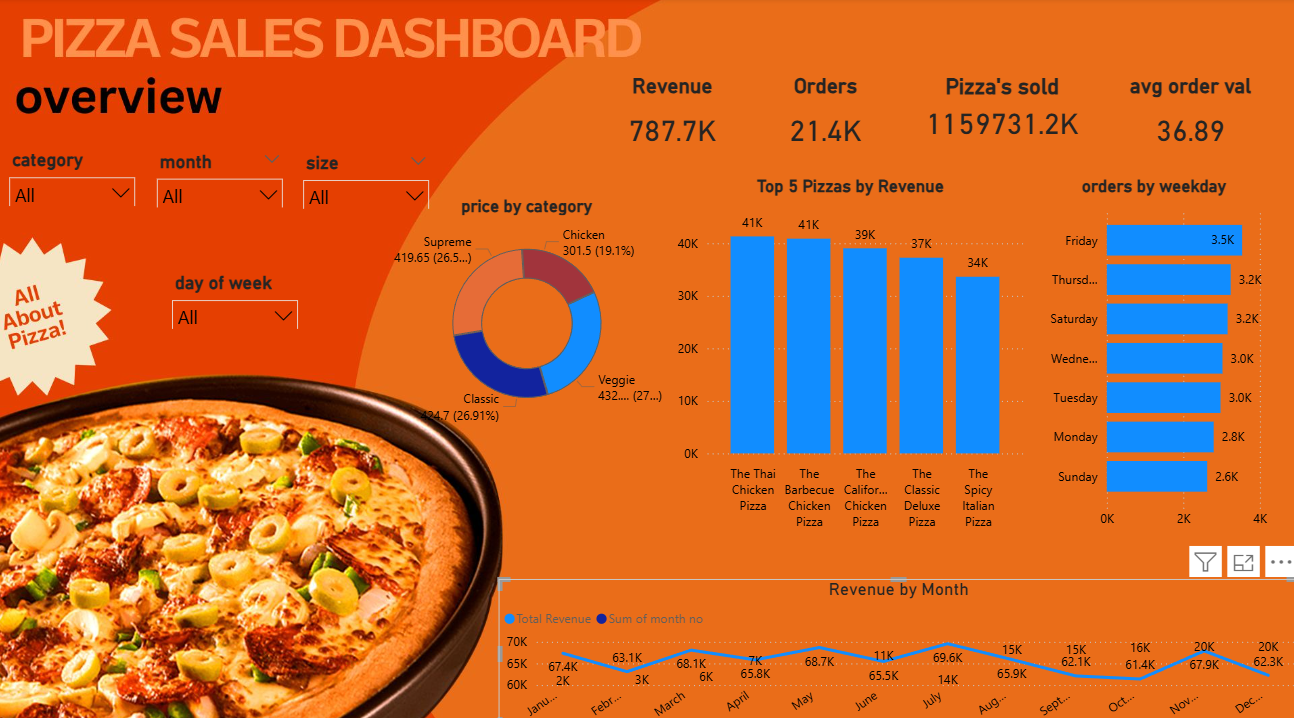

This screenshot's page, from the dashboard's own definition file:
{"tool":"powerbi","page":{"name":"Page 1","canvas":[1280,720],"ordinal":0},"visuals":[{"type":"card","title":"Revenue","fields":{"Values":["pizzas.Total Revenue"]},"box":[602.3,74.8,122.4,84.3],"z":0},{"type":"slicer","fields":{"Values":["pizza_types.category"]},"box":[0,144.1,144.1,61.2],"z":1000},{"type":"slicer","fields":{"Values":["pizzas.size"]},"box":[289.6,146.8,144.1,61.2],"z":2000},{"type":"slicer","fields":{"Values":["orders.month"]},"box":[145.5,145.5,144.1,61.2],"z":3000},{"type":"card","title":"Orders","fields":{"Values":["orders.orders"]},"box":[753.2,74.8,122.4,84.3],"z":4000},{"type":"card","title":"avg order val","fields":{"Values":["orders.avg_order_value"]},"box":[1106.7,74.8,134.6,84.3],"z":5000},{"type":"card","title":"Pizza''s sold","fields":{"Values":["Sum(order_details.order_details_id)"]},"box":[860.6,74.8,255.6,69.3],"z":6000},{"type":"lineChart","title":"Revenue by Month","fields":{"Y":["pizzas.Total Revenue"],"Category":["orders.month"],"Y2":["Sum(orders.month no)"]},"box":[492.2,572.4,788.5,148.2],"z":7000},{"type":"barChart","title":"orders by weekday","fields":{"Y":["orders.total_orders"],"Category":["orders.day of week"]},"box":[1018.3,175.4,239.3,356.2],"z":8000},{"type":"donutChart","title":"price by category","fields":{"Category":["pizza_types.category"],"Y":["Sum(pizzas.price)"]},"box":[376.6,194.4,286.9,232.5],"z":9000},{"type":"columnChart","title":"Top 5 Pizzas by Revenue","fields":{"Y":["pizzas.Total Revenue"],"Category":["pizza_types.name"]},"box":[663.5,175.4,350.8,356.2],"z":10000},{"type":"slicer","fields":{"Values":["orders.day of week"]},"box":[160.4,265.1,144.1,61.2],"z":11000}]}

Visuals, with their boxes in screenshot pixels (x1, y1, x2, y2), scaled from the page's 1280x720 canvas onto the 1294x718 screenshot:
"Revenue" card: <bbox>609, 75, 733, 159</bbox>
slicer - pizza_types.category: <bbox>0, 144, 146, 205</bbox>
slicer - pizzas.size: <bbox>293, 146, 438, 207</bbox>
slicer - orders.month: <bbox>147, 145, 293, 206</bbox>
"Orders" card: <bbox>761, 75, 885, 159</bbox>
"avg order val" card: <bbox>1119, 75, 1255, 159</bbox>
"Pizza''s sold" card: <bbox>870, 75, 1128, 144</bbox>
"Revenue by Month" lineChart: <bbox>498, 571, 1293, 717</bbox>
"orders by weekday" barChart: <bbox>1029, 175, 1271, 530</bbox>
"price by category" donutChart: <bbox>381, 194, 671, 426</bbox>
"Top 5 Pizzas by Revenue" columnChart: <bbox>671, 175, 1025, 530</bbox>
slicer - orders.day of week: <bbox>162, 264, 308, 325</bbox>
